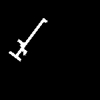double_crochet: (9, 18, 46, 60)
